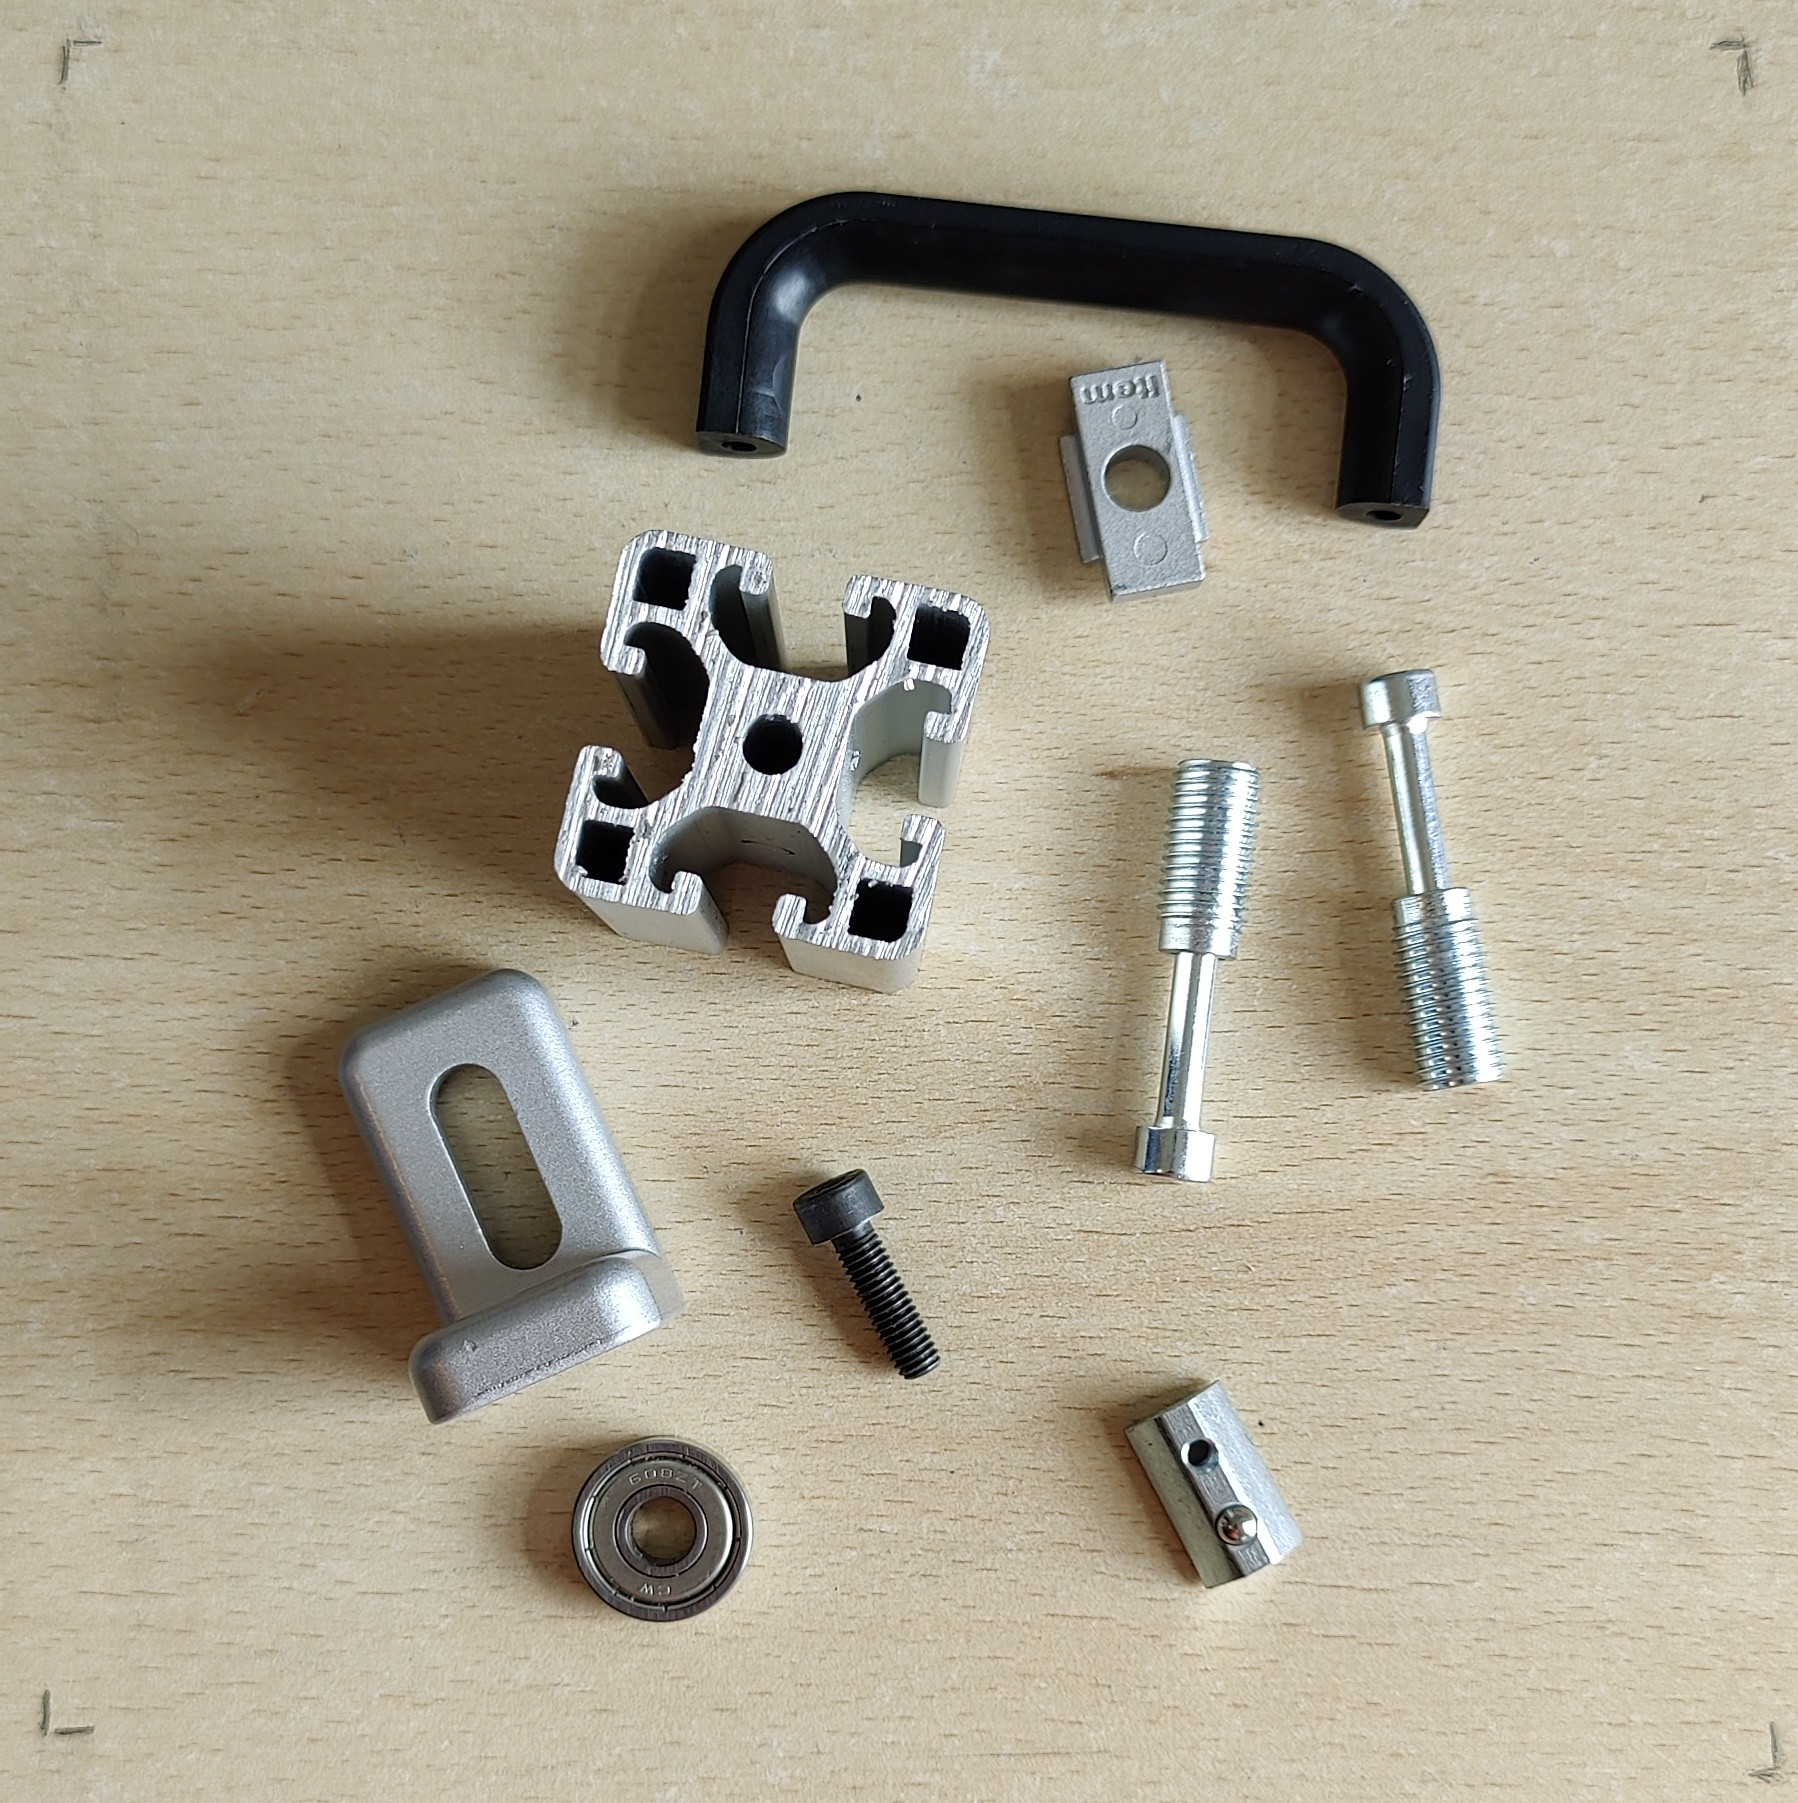Aluminium Extension: (552, 525, 991, 996)
Ball Bearing: (570, 1436, 752, 1627)
Multiwinkel: (336, 967, 688, 1428)
Pull Handle: (692, 189, 1442, 533)
Shoulder Socket Head Cap Screw: (1355, 667, 1508, 1093), (1128, 756, 1263, 1186)
Socket Head Cap Screw: (792, 1167, 943, 1381)
T Nut Square: (1054, 357, 1210, 604)
T Spring Nut: (1121, 1378, 1306, 1592)
